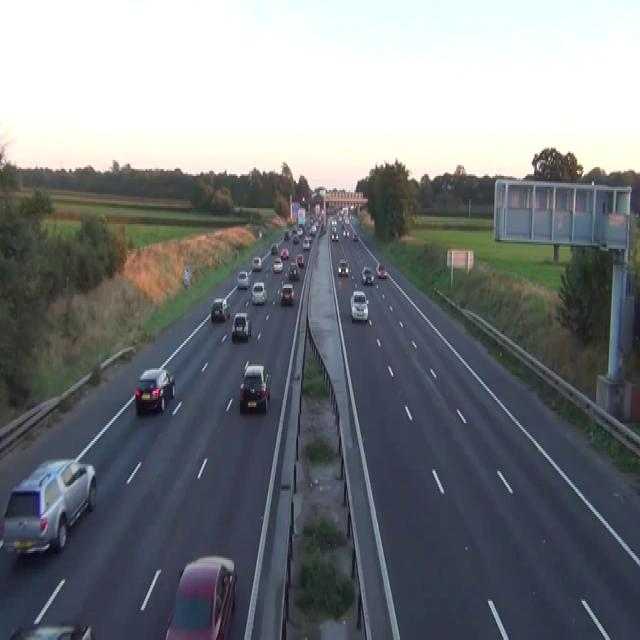Car: (1, 457, 96, 558), (164, 555, 237, 638), (8, 578, 93, 638), (134, 366, 175, 414), (239, 361, 271, 412), (9, 622, 93, 638), (349, 290, 369, 322), (231, 311, 251, 341), (210, 297, 230, 322), (251, 281, 267, 304), (280, 283, 294, 304), (361, 265, 374, 284), (236, 270, 249, 288), (337, 258, 348, 276), (288, 261, 299, 279), (272, 256, 283, 272), (375, 263, 387, 277), (252, 256, 262, 270), (280, 247, 289, 260), (296, 252, 304, 266), (302, 236, 310, 249), (281, 272, 289, 283), (270, 242, 277, 254), (296, 224, 303, 236), (331, 231, 338, 242), (283, 228, 289, 240), (331, 217, 337, 229), (342, 228, 349, 236), (309, 226, 316, 234), (321, 222, 326, 233), (352, 233, 358, 242), (291, 224, 297, 233), (293, 233, 298, 243), (343, 217, 349, 224), (258, 230, 262, 238), (301, 195, 305, 202)
Truck: (297, 208, 305, 226)
